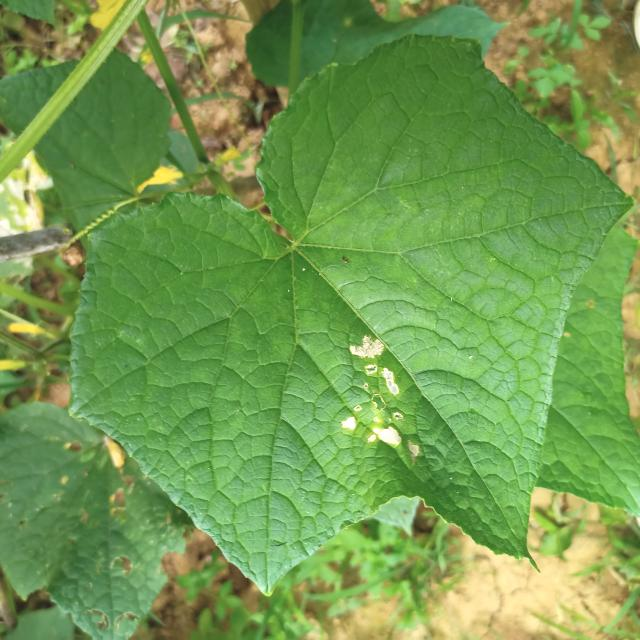disease_cucumber: (337, 330, 432, 465)
